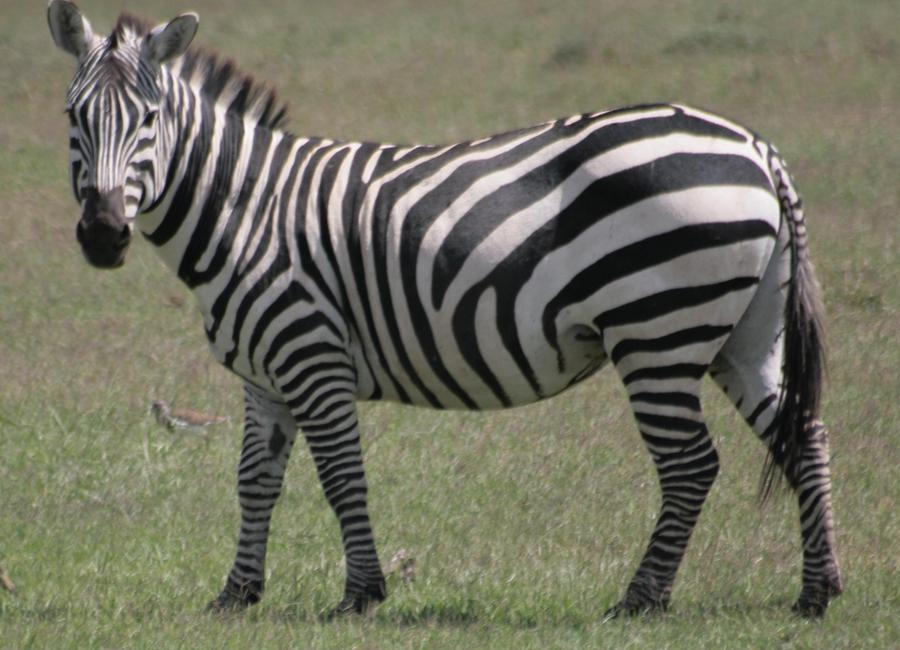zebra_plains: (193, 112, 735, 406)
